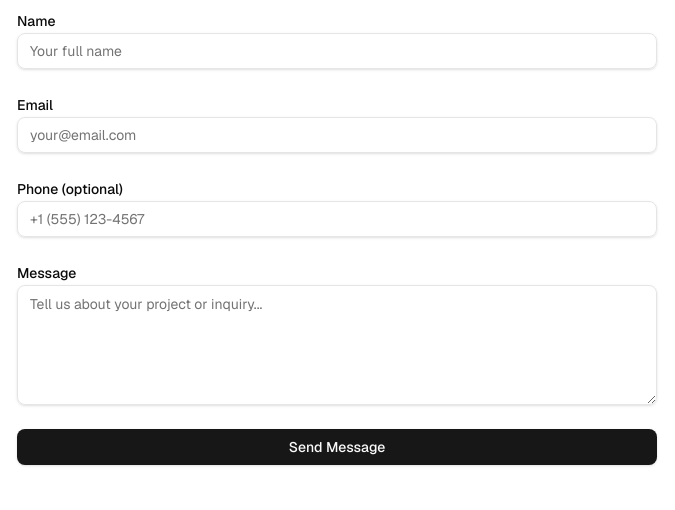
Test: ContactForm › Form Validation › displays validation error for invalid email
This screenshot has width=675, height=510.
// Enter invalid email and blur
Type "invalid-email" into the field labelled "Email" at (337, 135), box [17,117,657,153]
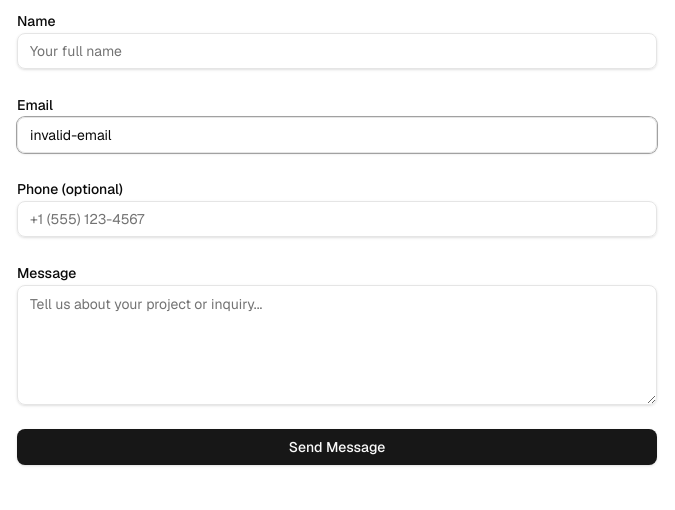
Press Tab
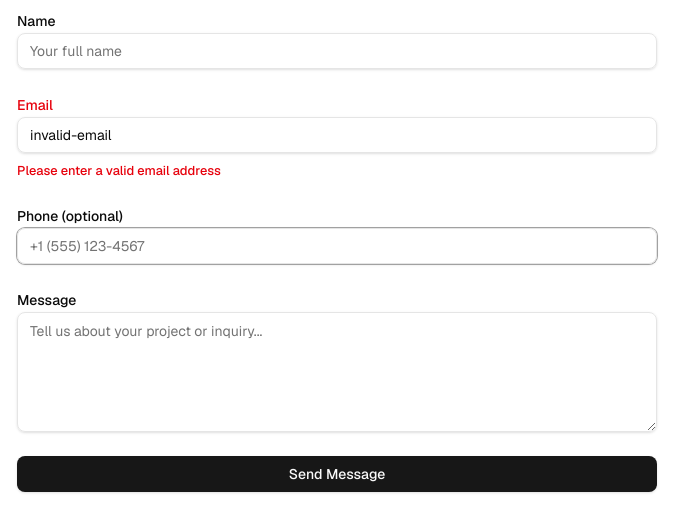
Check: the text "Please enter a valid email address" is shown, box [17,162,221,179]
